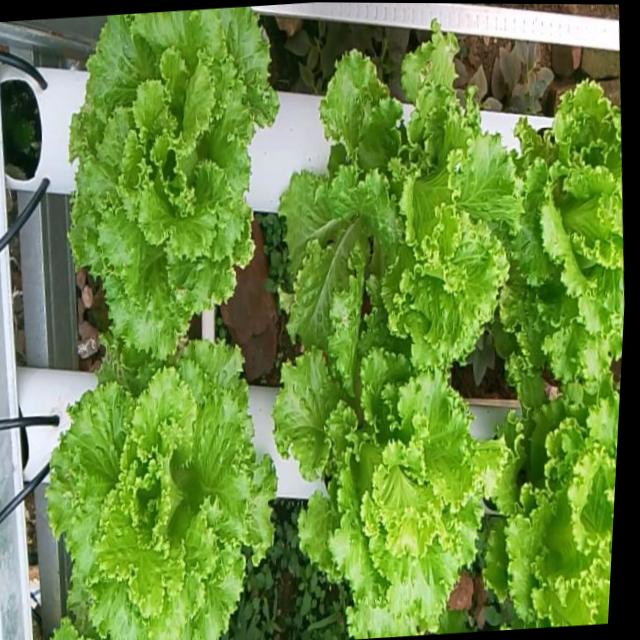Mature: (285, 22, 527, 354), (75, 6, 283, 361), (281, 317, 504, 637), (54, 337, 285, 640), (509, 66, 624, 369), (493, 363, 621, 627)
